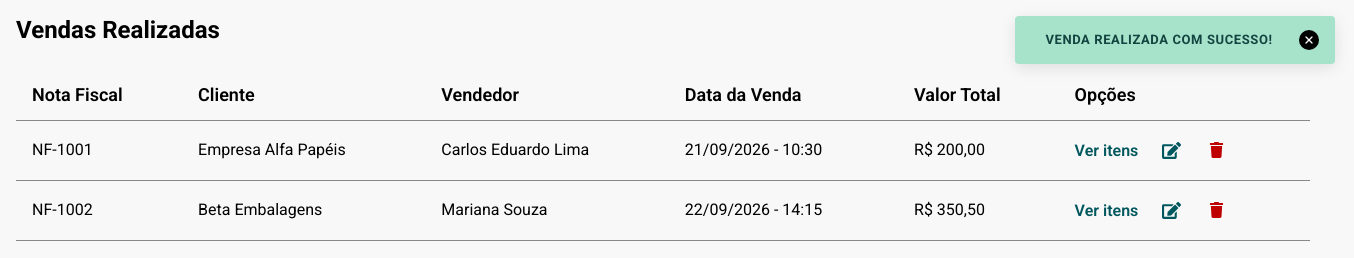
it: SalesList Page Component › exibe Toast flutuante com mensagem vinda de location.state e limpa o history
Expected: the text "VENDA REALIZADA COM SUCESSO!" is shown, [1039,30,1279,50]
# Fecha o toast ao clicar no botão X
Click the button named "fechar notificação".
click(1309, 40)  # box [1299,30,1319,50]
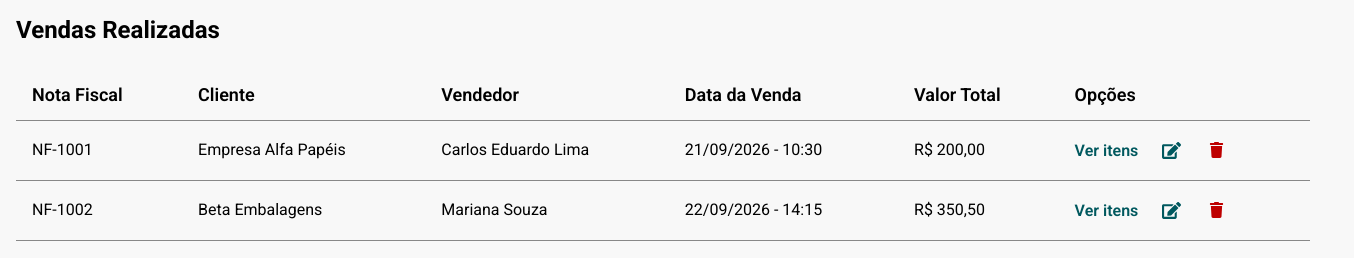
Expected: the text "VENDA REALIZADA COM SUCESSO!" is gone
